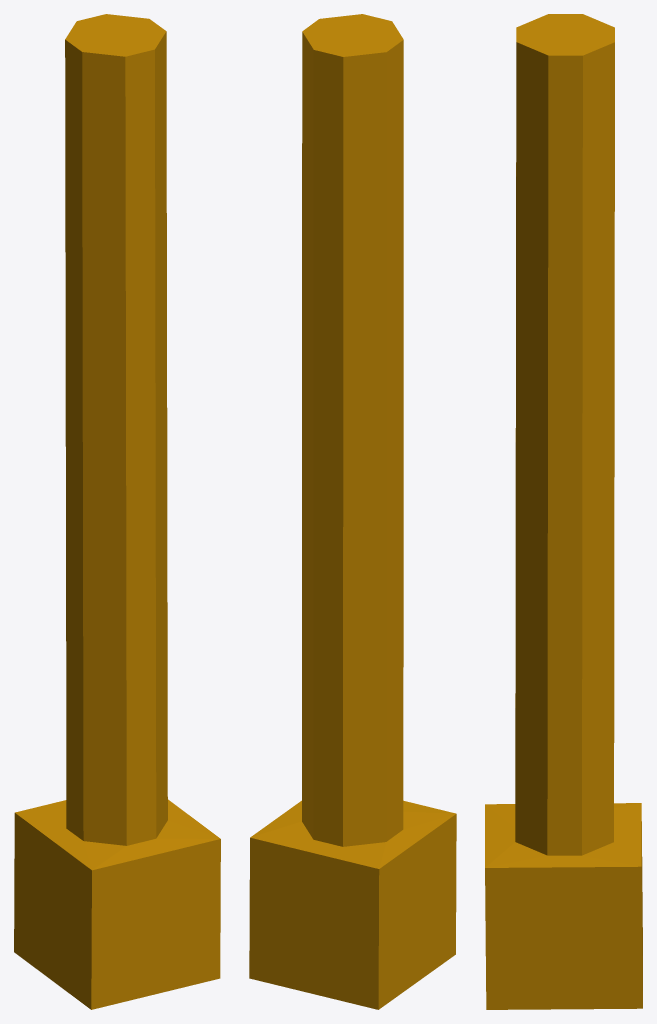
The model's file is Arm2_col.obj.
3 renders of one model, left to right at view 1: azimuth 30°, elevation 25°; view 2: azimuth 150°, elevation 25°; view 3: azimuth 270°, elevation 25°, orthographic.
Parts seen in each view (by area): view 1: Arm2_col; view 2: Arm2_col; view 3: Arm2_col.
Part boxes in pixels (x1,y1,x2,y2): Arm2_col: [14, 14, 220, 1009]; Arm2_col: [249, 14, 456, 1009]; Arm2_col: [485, 14, 642, 1009].
Size of the model in its own units: 2.26 by 15.57 by 2.36.
